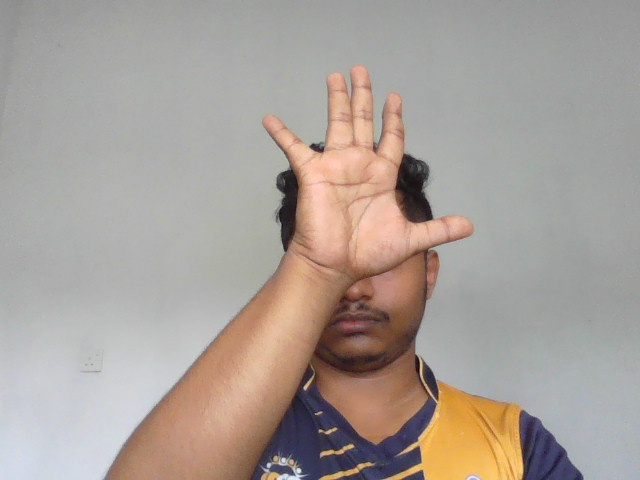Hello: (262, 64, 478, 274)
